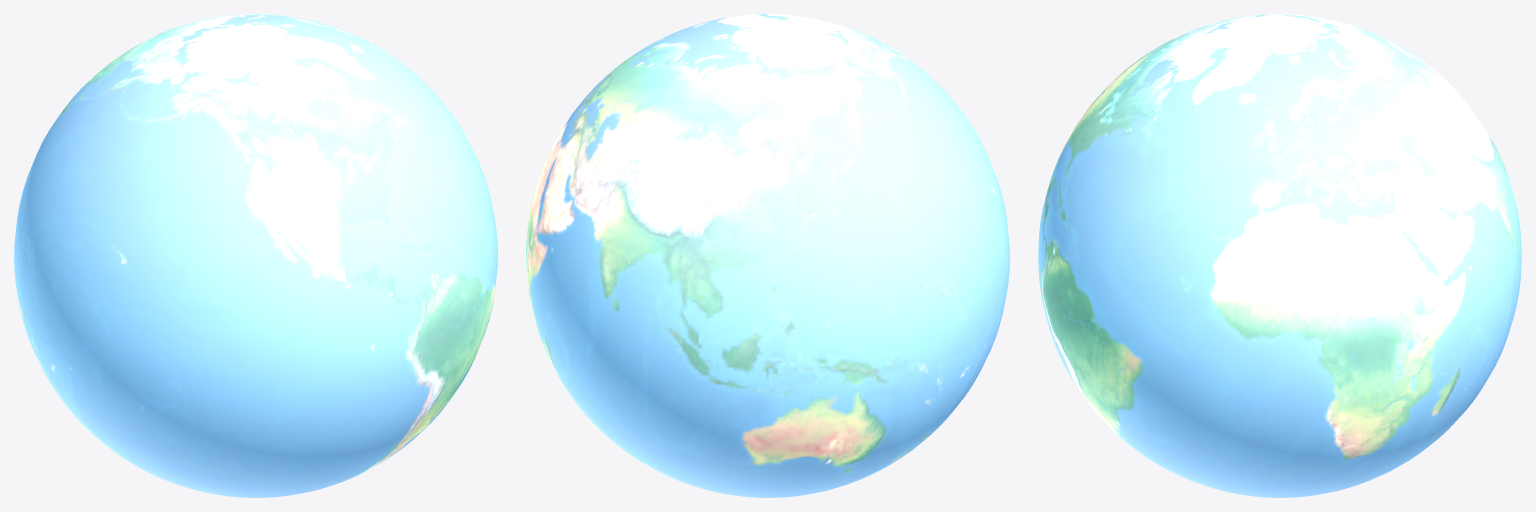
The model's file is earth.gltf.
3 renders of one model, left to right at view 1: azimuth 30°, elevation 25°; view 2: azimuth 150°, elevation 25°; view 3: azimuth 270°, elevation 25°, orthographic.
Visible parts, largest first — view 1: earth; view 2: earth; view 3: earth.
Part boxes in pixels (x1,y1,x2,y2): earth: [14, 14, 497, 497]; earth: [526, 14, 1009, 497]; earth: [1038, 14, 1521, 497].
Size of the model in its own units: 2 by 2 by 2.
